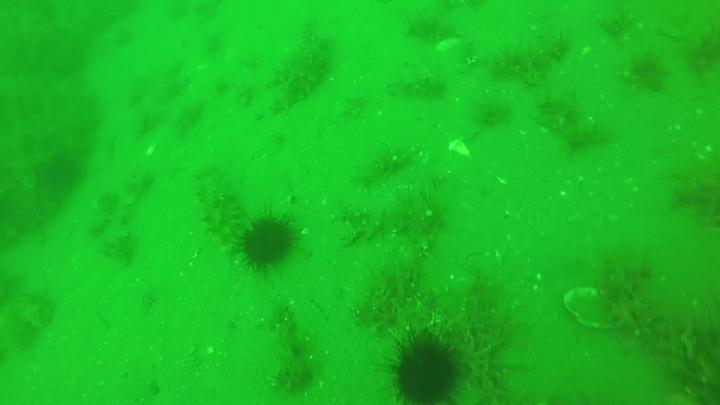echinus: (382, 338, 458, 405), (236, 205, 298, 279)
scallop: (565, 289, 642, 332)
